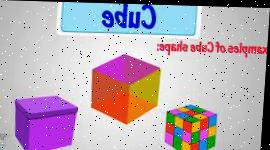cube: (13, 95, 79, 150), (165, 101, 220, 150)
